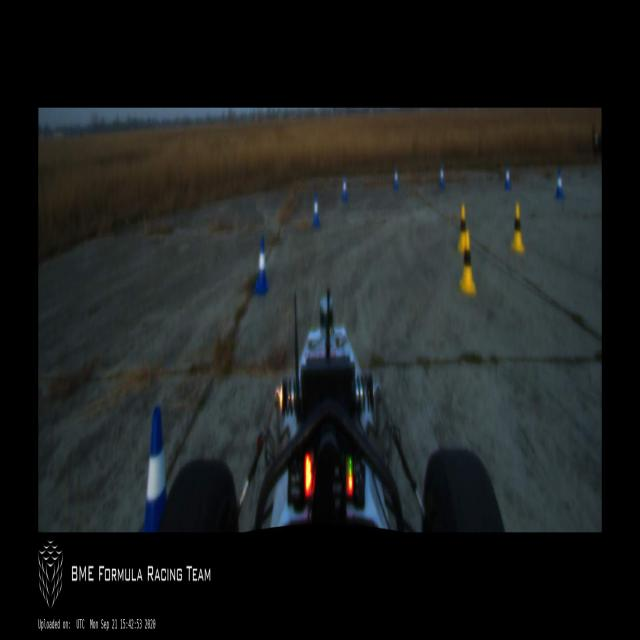blue_cone: (140, 408, 166, 530), (255, 237, 268, 294), (555, 168, 564, 199), (312, 193, 320, 227), (341, 176, 348, 202), (504, 164, 511, 190), (439, 163, 445, 189), (393, 167, 399, 190)
yellow_cone: (459, 232, 476, 294), (511, 203, 524, 252), (458, 204, 466, 250)
